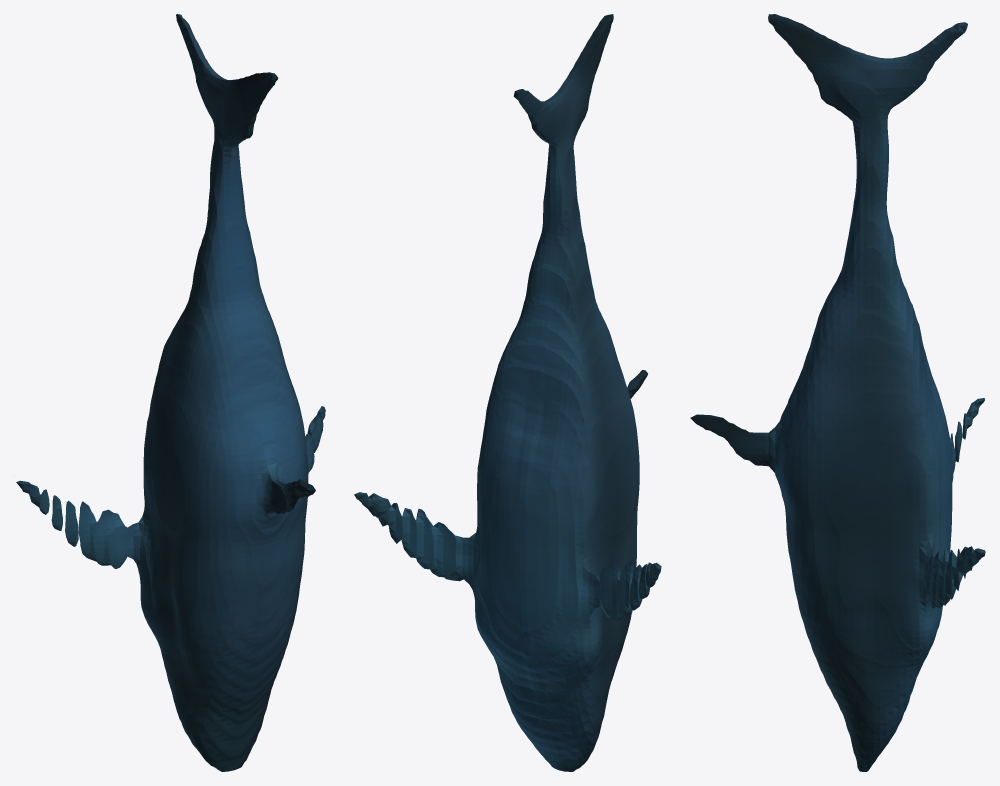
Rendered from example_mesh_0.obj.
The picture shows the model from 3 angles, left to right: view 1: azimuth 30°, elevation 25°; view 2: azimuth 150°, elevation 25°; view 3: azimuth 270°, elevation 25°; orthographic projection. The views are drawn at different scales.
Size of the model in its own units: 0.8765 by 1.97 by 0.7002.
